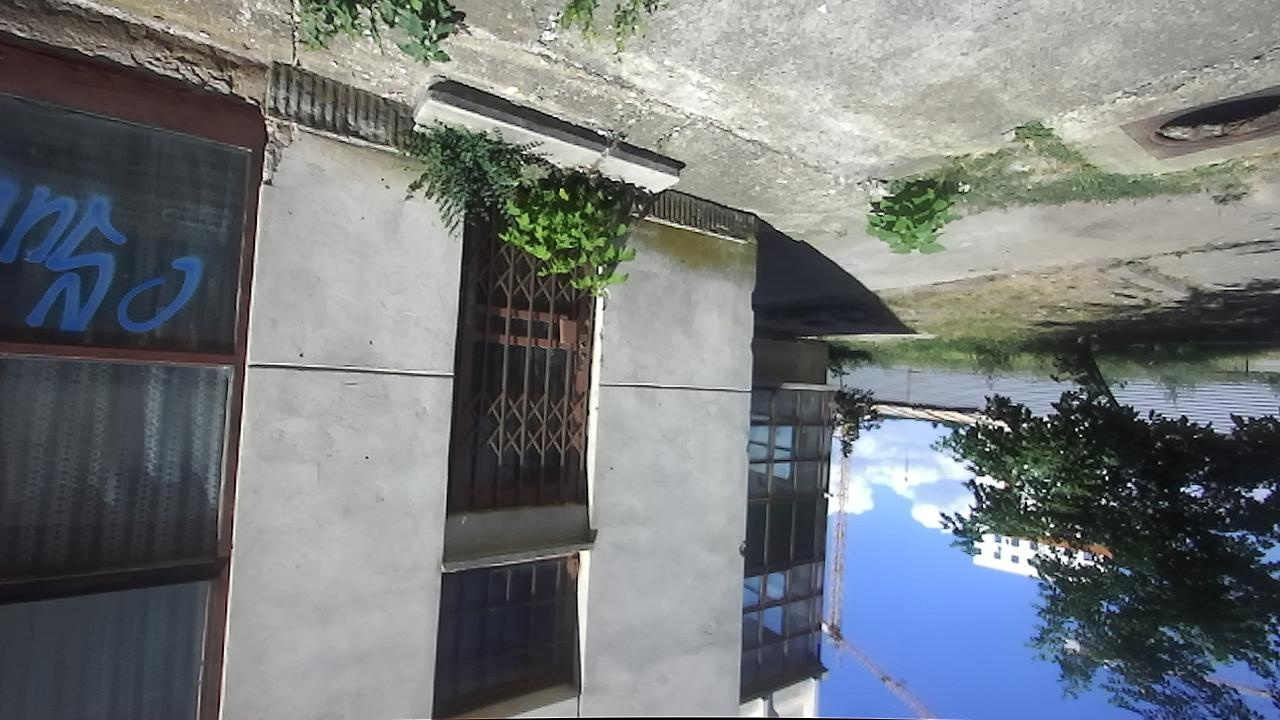drain: (1143, 87, 1279, 150)
